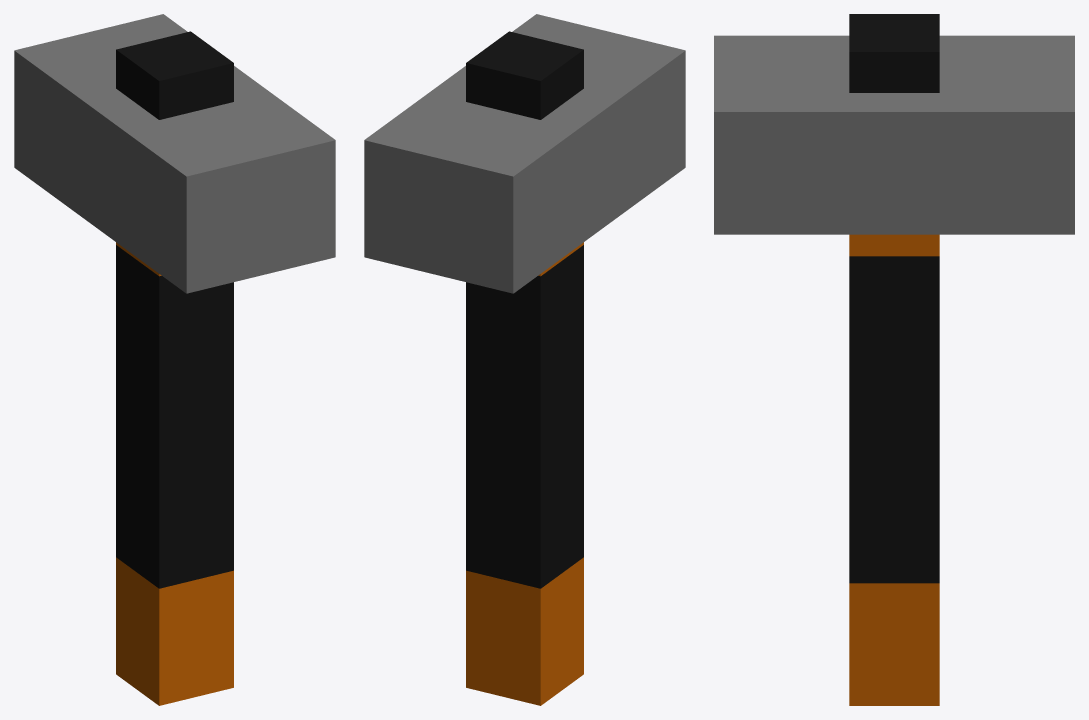
File: hammer.obj
3 views of the same model, side by side, from view 1: azimuth 30°, elevation 25°; view 2: azimuth 150°, elevation 25°; view 3: azimuth 270°, elevation 25° (orthographic). The views are drawn at different scales.
Bounding box in the file's own units: 0.4 × 1.6 × 0.8.
1 material, 1 textured.
